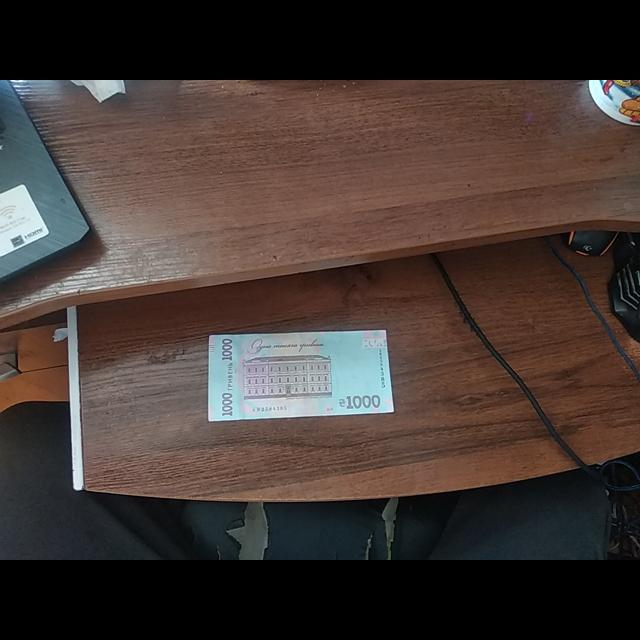1000uah: (208, 334, 395, 421)
